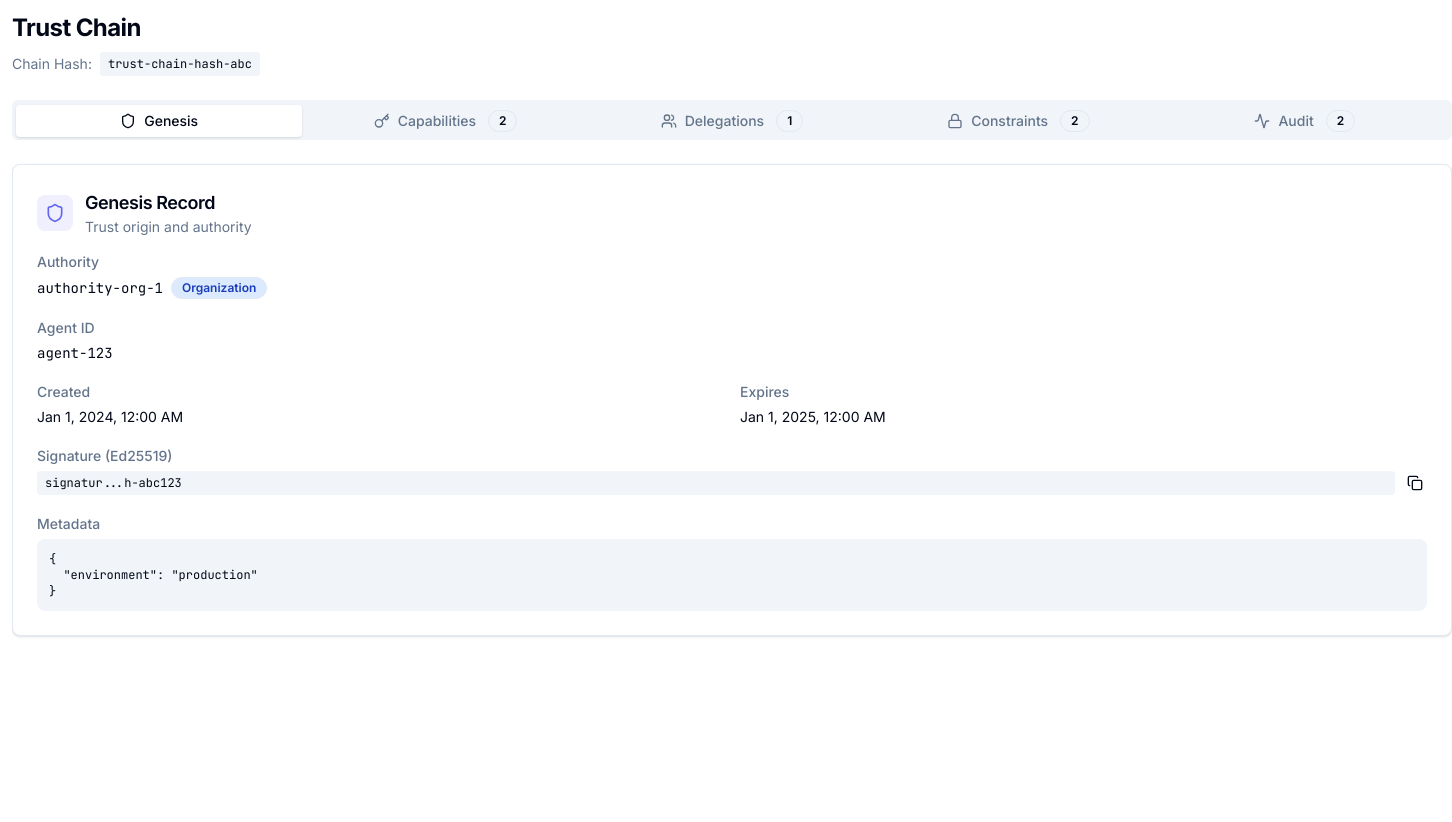
TrustChainViewer › Tab switching › should switch to Capabilities tab when clicked
Click the tab "Capabilities 2" at (446, 121), box [302,104,589,138]
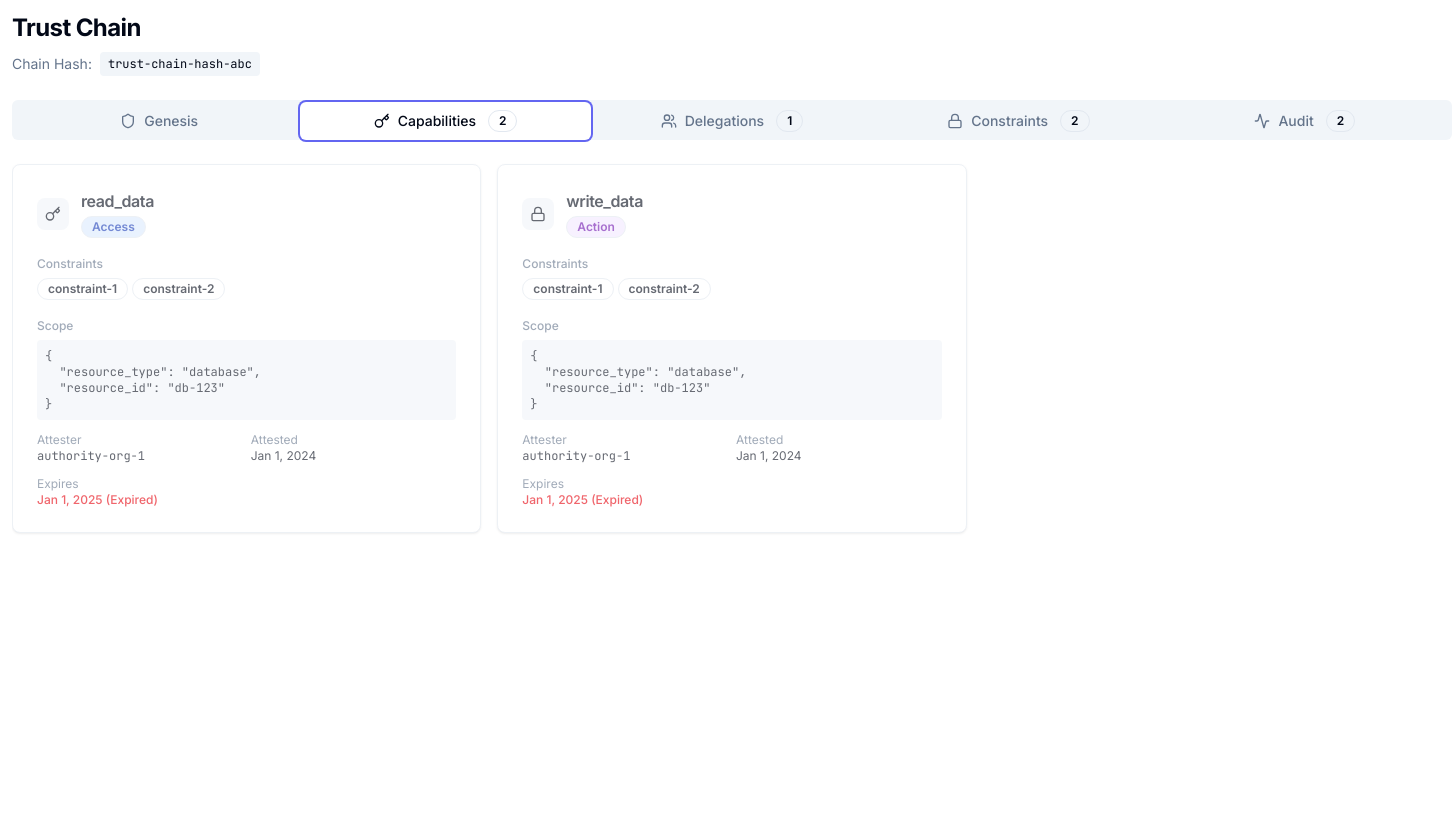
Expected: the heading "read_data" is shown, [81,191,154,211]
Expected: the heading "write_data" is shown, [566,191,643,211]
